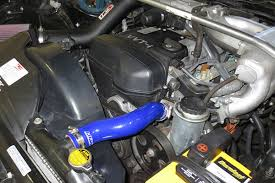radiator_hose: (75, 100, 165, 149)
